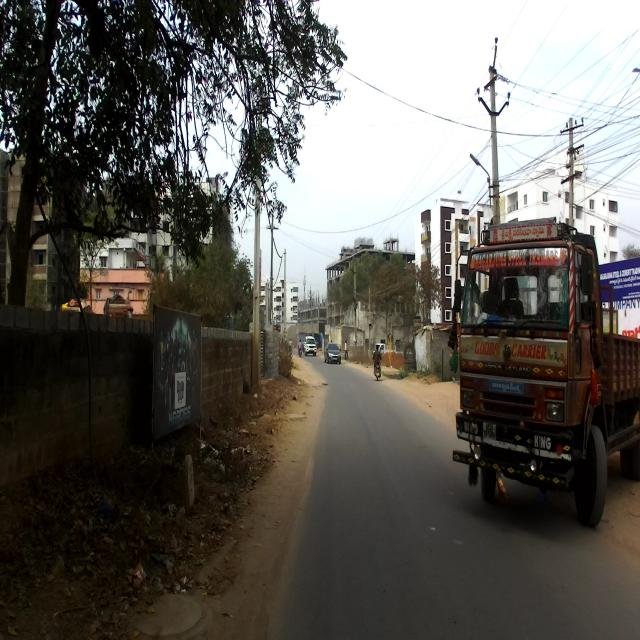Car_Honda: (324, 342, 341, 364)
Car_Mahindra: (303, 336, 317, 356)
scooter: (373, 356, 381, 381)
truck: (445, 192, 640, 544)
